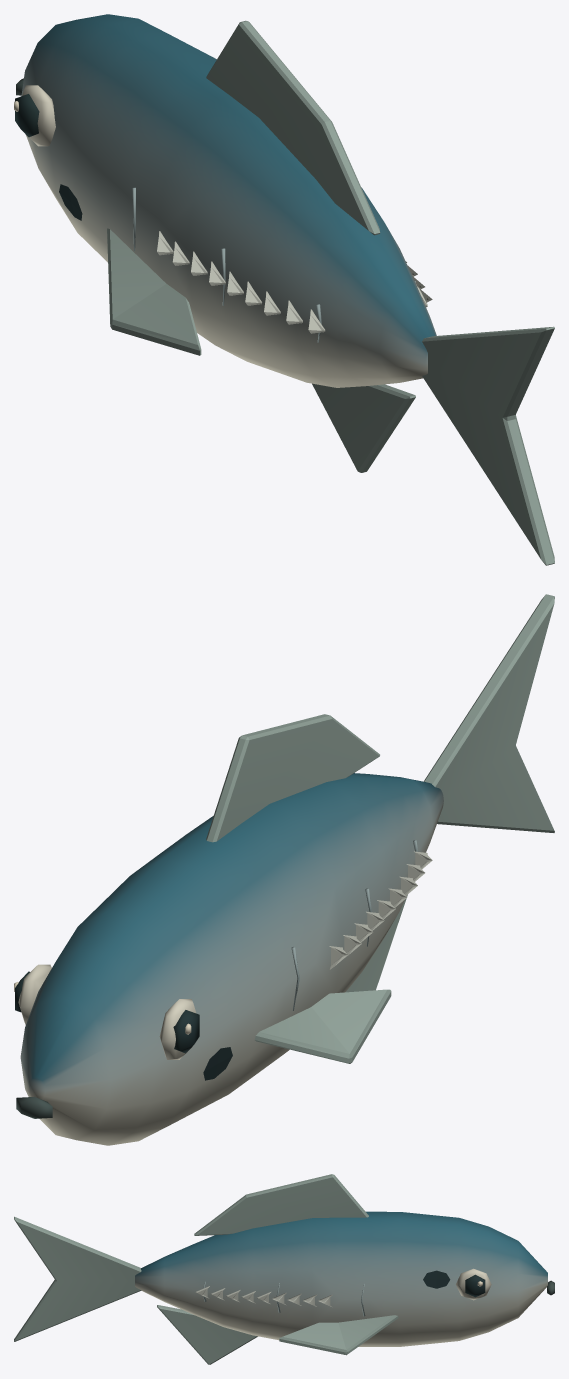
The model's file is fish_horse_mackerel.glb.
3 views of the same model, one above another, from view 1: azimuth 30°, elevation 25°; view 2: azimuth 150°, elevation 25°; view 3: azimuth 270°, elevation 25° (orthographic). The views are drawn at different scales.
Bounding box in the file's own units: 0.0586 × 0.0848 × 0.2197.
